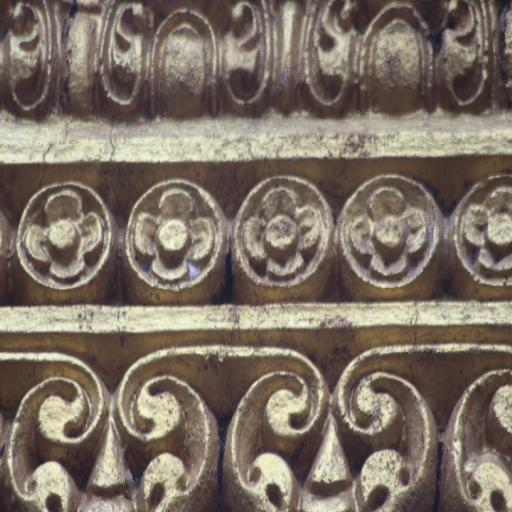hoa: (336, 165, 443, 304), (19, 176, 115, 306), (234, 173, 333, 299), (125, 175, 222, 300), (450, 176, 512, 296)
la: (2, 347, 219, 512), (218, 347, 435, 512), (64, 0, 309, 110), (310, 0, 512, 109), (436, 349, 512, 512), (0, 0, 61, 110)
